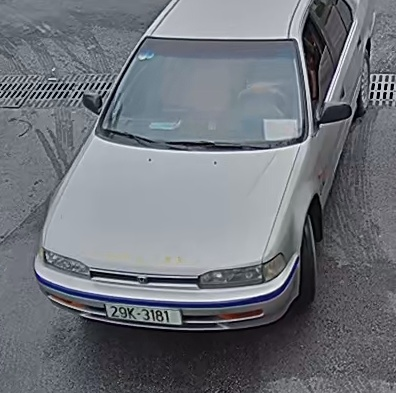vehicle plate: (97, 297, 185, 333)
